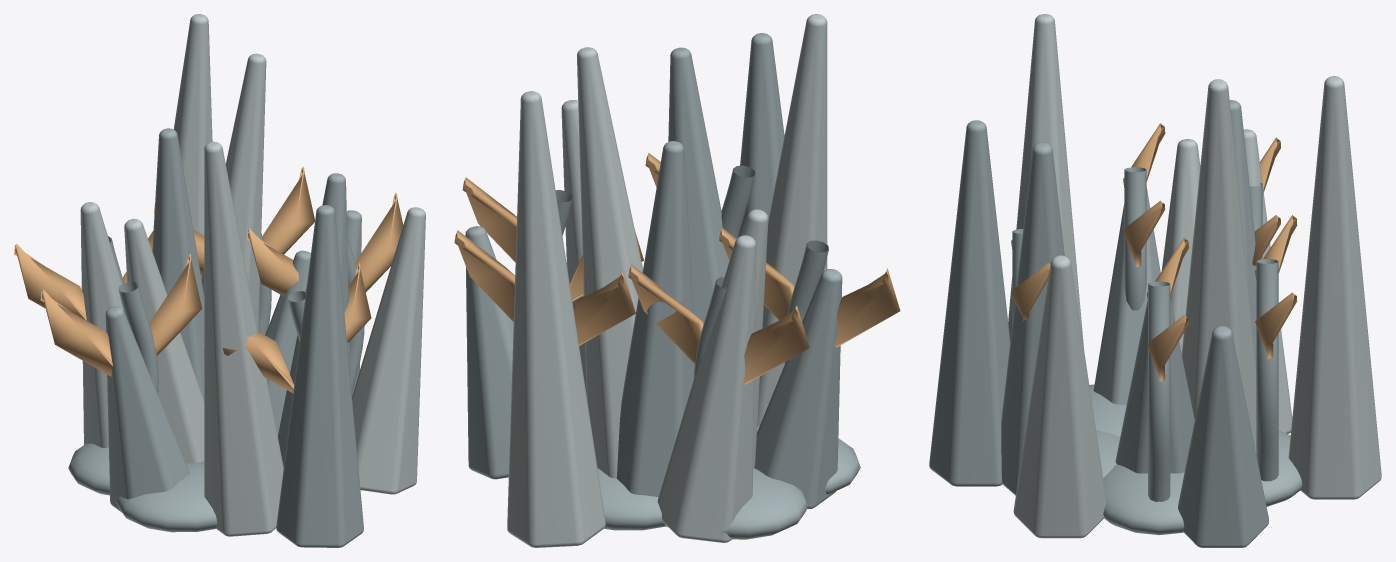
Rendered from bio_crystal_fan_17_near.glb.
The picture shows the model from 3 angles, left to right: view 1: azimuth 30°, elevation 25°; view 2: azimuth 150°, elevation 25°; view 3: azimuth 270°, elevation 25°; orthographic projection. The views are drawn at different scales.
Parts seen in each view (by area): view 1: Reflecting mineral prism.007, Reflecting mineral prism.002, Reflecting mineral prism.005, Reflecting mineral prism.004, Reflecting mineral prism.009, Reflecting mineral prism.006, Reflecting mineral prism.003, Reflecting mineral prism.001, Mineral substrate, Reflecting mineral prism.011, Secondary fan lobe.008, Secondary fan lobe (+10 smaller); view 2: Reflecting mineral prism.011, Reflecting mineral prism.001, Reflecting mineral prism.006, Reflecting mineral prism.003, Reflecting mineral prism.004, Reflecting mineral prism.007, Reflecting mineral prism.008, Reflecting mineral prism.010, Mineral substrate, Reflecting mineral prism.002, Secondary fan lobe.002, Secondary fan lobe.006 (+7 smaller); view 3: Reflecting mineral prism.011, Reflecting mineral prism.002, Reflecting mineral prism.005, Reflecting mineral prism.003, Reflecting mineral prism.008, Reflecting mineral prism.010, Mineral substrate, Reflecting mineral prism.007, Reflecting mineral prism, Reflecting mineral prism.004, Branching support, Branching support.003 (+10 smaller).
Boxes of the visible parts, x1,y1,x2,y2 form: Reflecting mineral prism.007: [204, 141, 283, 536]; Reflecting mineral prism.002: [276, 205, 363, 547]; Reflecting mineral prism.005: [352, 207, 425, 494]; Reflecting mineral prism.004: [105, 306, 189, 512]; Reflecting mineral prism.009: [124, 218, 204, 463]; Reflecting mineral prism.006: [152, 128, 204, 400]; Reflecting mineral prism.003: [201, 53, 266, 384]; Reflecting mineral prism.001: [80, 202, 123, 447]; Mineral substrate: [68, 443, 217, 532]; Reflecting mineral prism.011: [173, 14, 212, 278]; Secondary fan lobe.008: [40, 254, 201, 376]; Secondary fan lobe: [247, 193, 403, 296]; Reflecting mineral prism.011: [507, 91, 605, 547]; Reflecting mineral prism.001: [657, 235, 756, 542]; Reflecting mineral prism.006: [616, 141, 694, 496]; Reflecting mineral prism.003: [577, 47, 642, 478]; Reflecting mineral prism.004: [754, 269, 842, 508]; Reflecting mineral prism.007: [757, 14, 827, 426]; Reflecting mineral prism.008: [465, 226, 513, 479]; Reflecting mineral prism.010: [668, 47, 729, 323]; Mineral substrate: [597, 426, 860, 539]; Reflecting mineral prism.002: [738, 33, 784, 237]; Secondary fan lobe.002: [628, 264, 809, 384]; Secondary fan lobe.006: [454, 230, 635, 345]; Reflecting mineral prism.011: [1288, 76, 1381, 499]; Reflecting mineral prism.002: [929, 120, 1010, 486]; Reflecting mineral prism.005: [1013, 255, 1106, 538]; Reflecting mineral prism.003: [1181, 79, 1256, 448]; Reflecting mineral prism.008: [1178, 326, 1268, 547]; Reflecting mineral prism.010: [1001, 142, 1064, 495]; Mineral substrate: [1089, 384, 1302, 535]; Reflecting mineral prism.007: [1008, 14, 1083, 347]; Reflecting mineral prism: [1115, 298, 1194, 473]; Reflecting mineral prism.004: [1093, 188, 1160, 405]; Branching support: [1148, 281, 1170, 501]; Branching support.003: [1256, 259, 1278, 481].
Size of the model in its own units: 1.85 by 1.91 by 1.83.
